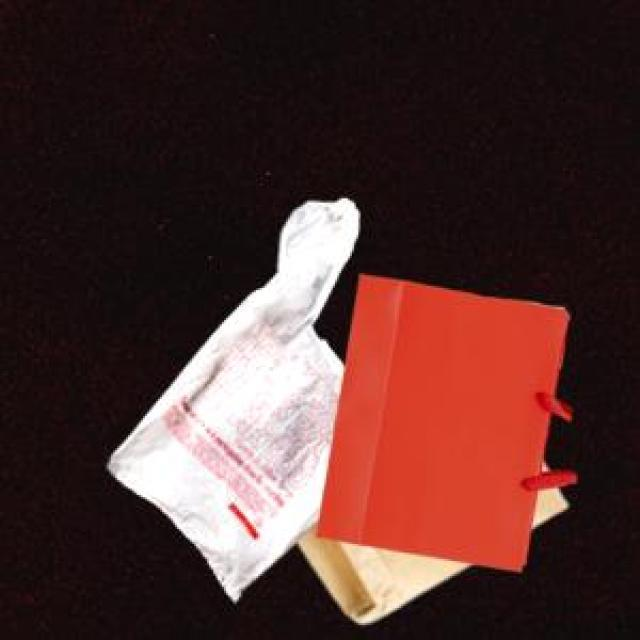paper: (312, 271, 572, 568), (294, 482, 563, 619)
